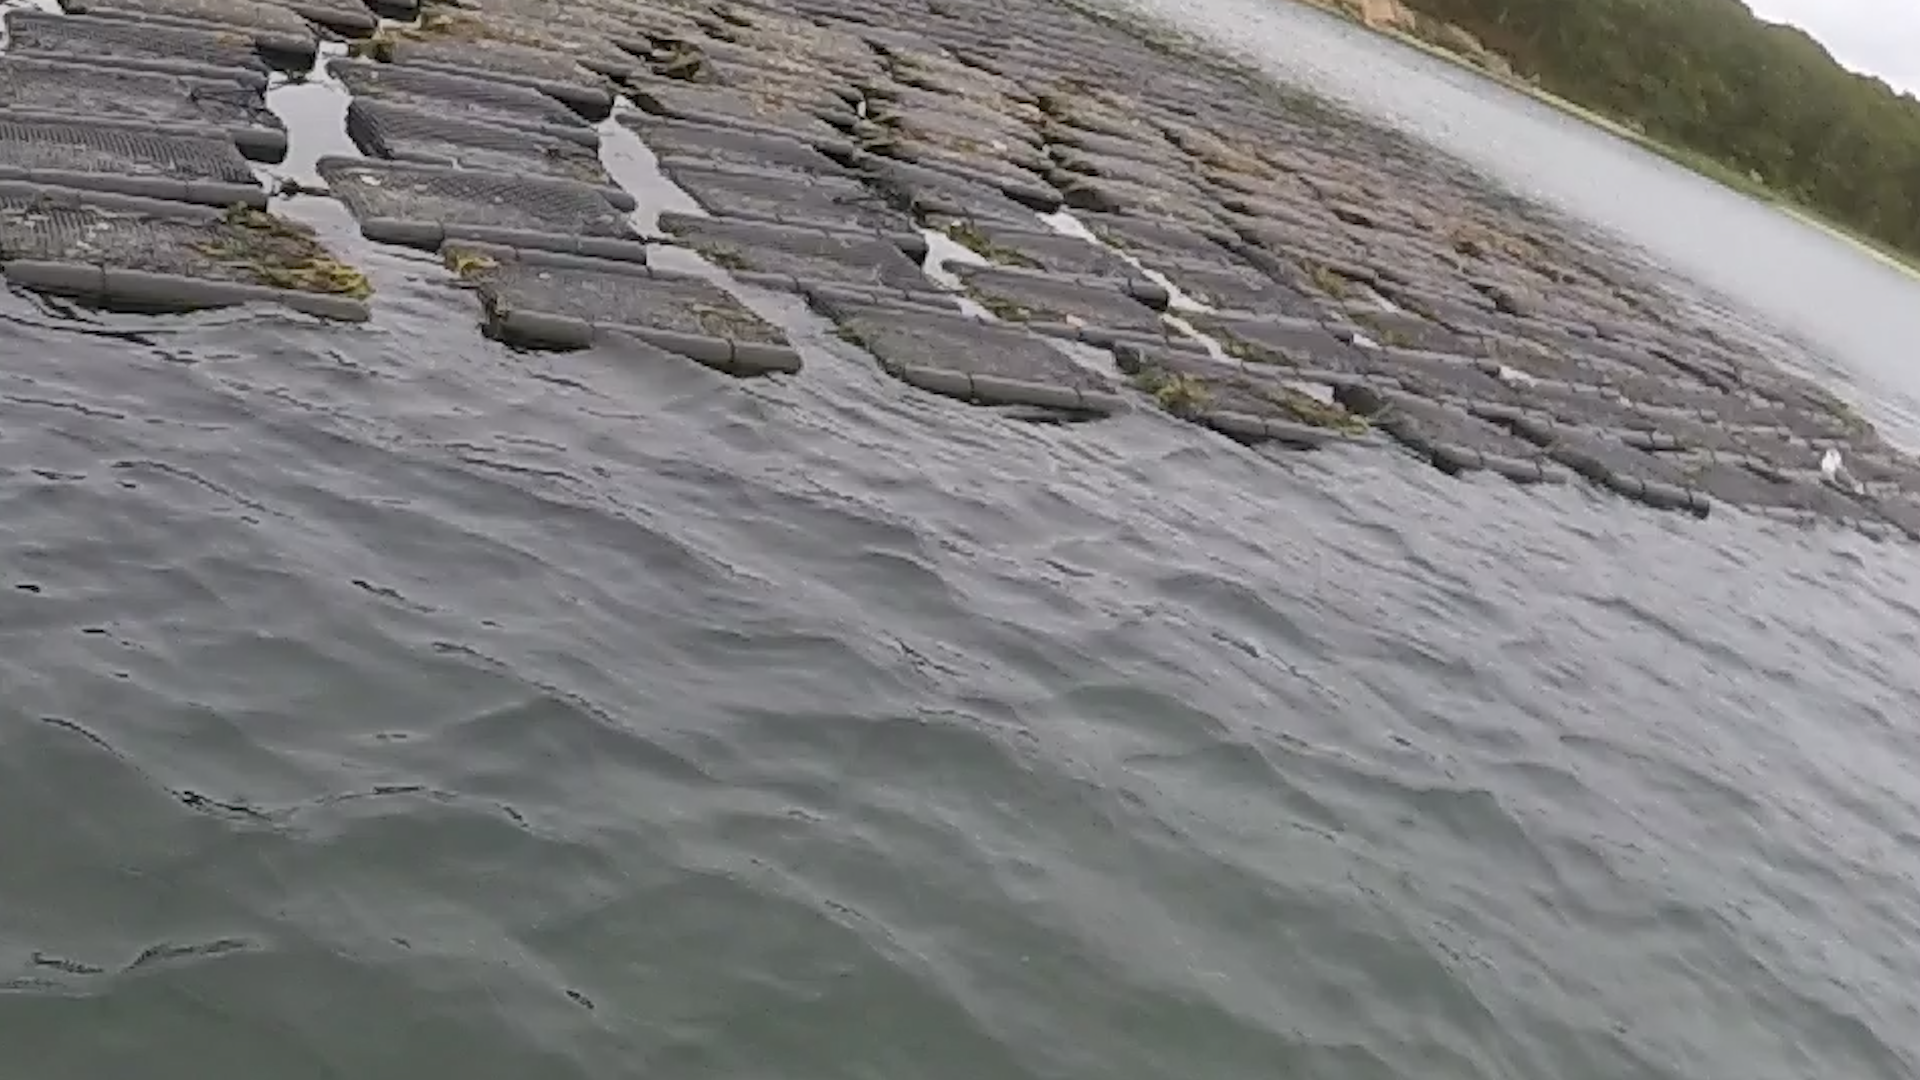bag: (434, 237, 808, 371)
